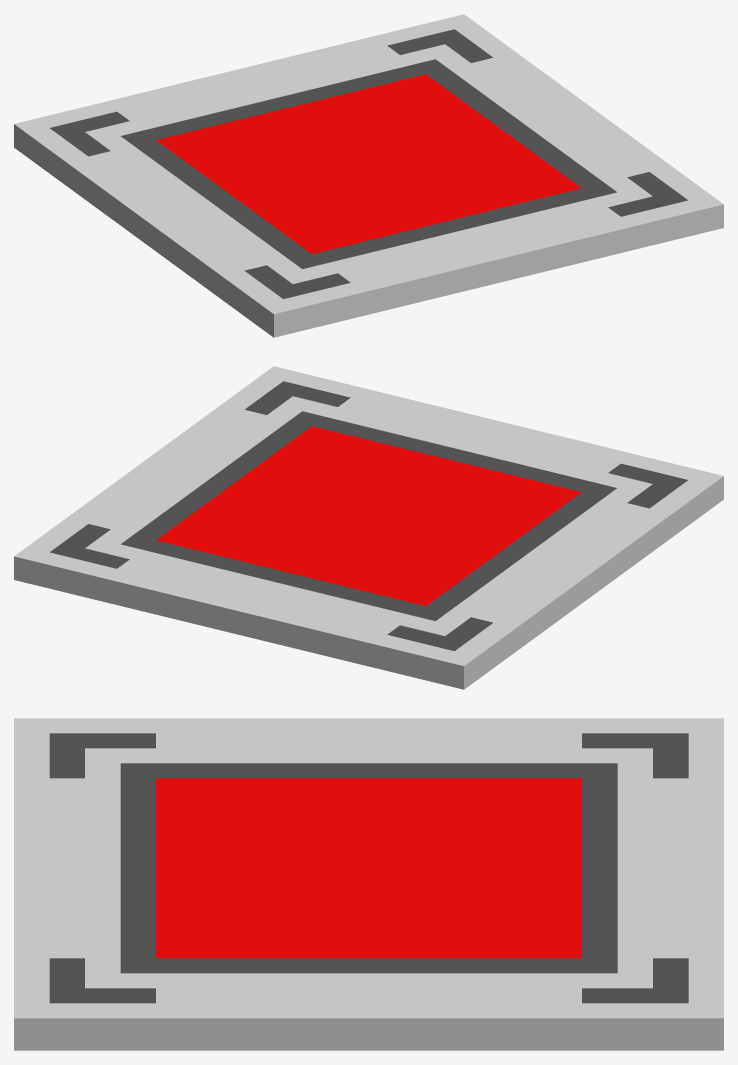
File: panel.vox.obj
3 views of the same model, one above another, from view 1: azimuth 30°, elevation 25°; view 2: azimuth 150°, elevation 25°; view 3: azimuth 270°, elevation 25° (orthographic). The views are drawn at different scales.
Size of the model in its own units: 4 by 0.2 by 4.
Materials: 1 (1 with a texture image).
